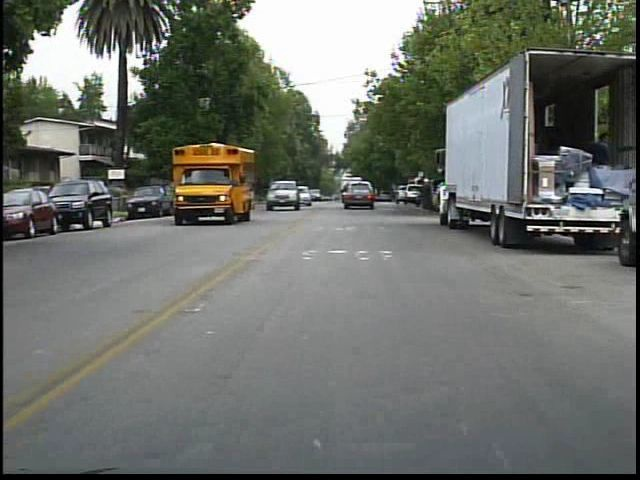person: (414, 173, 437, 221)
